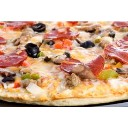pepperonipizza: (1, 20, 128, 102)
